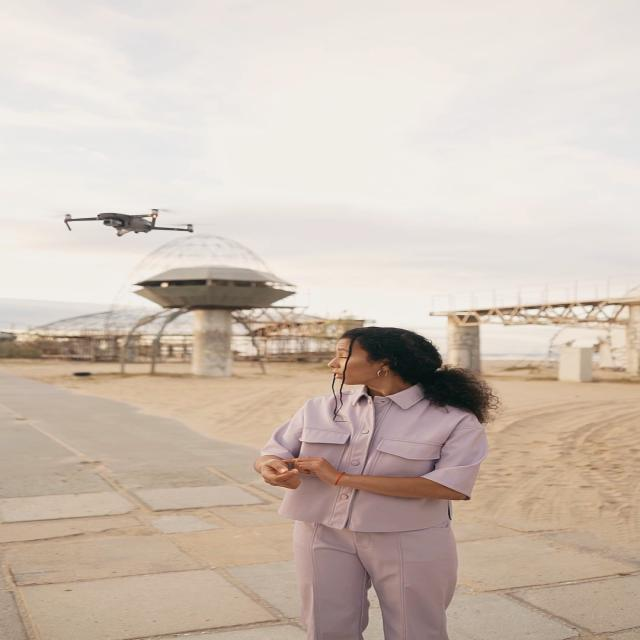Drone: (43, 198, 190, 238)
